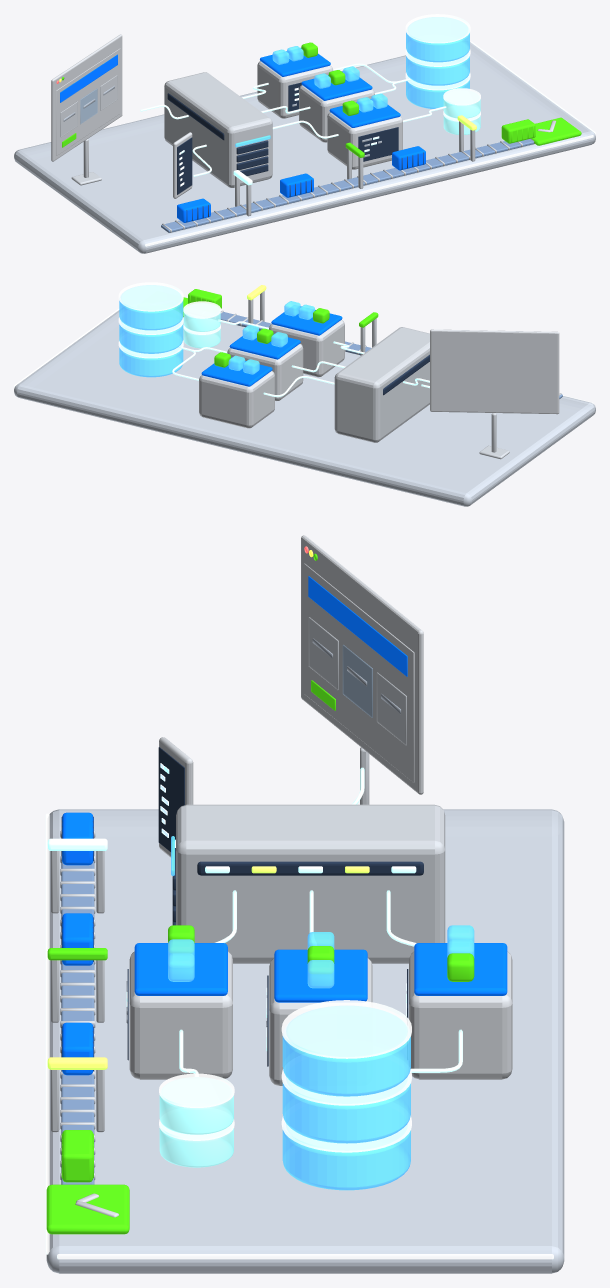
File: software-dev-architecture.glb
3 renders of one model, top to bottom at view 1: azimuth 30°, elevation 25°; view 2: azimuth 150°, elevation 25°; view 3: azimuth 270°, elevation 25°, orthographic. The views are drawn at different scales.
Parts seen in each view (by area): view 1: Base, ApiGateway, BrowserClient, Database, Rail, Service01, Service03, Service02, Cache, DataPaths, PhoneClient, DeployTarget (+4 smaller); view 2: Base, BrowserClient, ApiGateway, Database, Service03, Service01, Service02, Cache, Rail, DataPaths, Container04; view 3: Base, ApiGateway, Database, BrowserClient, Service01, Service03, Rail, Service02, Cache, DeployTarget, PhoneClient, DataPaths (+4 smaller).
Boxes of the visible parts, x1,y1,x2,y2 form: Base: (14,41,595,253); ApiGateway: (164,72,272,187); BrowserClient: (51,34,122,185); Database: (405,14,470,108); Rail: (161,115,534,232); Service01: (327,93,402,169); Service03: (257,42,333,118); Service02: (299,66,374,142); Cache: (443,88,480,134); DataPaths: (140,63,446,176); PhoneClient: (173,132,192,198); DeployTarget: (531,117,581,145); Base: (14,308,595,506); BrowserClient: (430,329,559,459); ApiGateway: (334,327,429,442); Database: (118,282,183,377); Service03: (199,352,274,428); Service01: (269,301,344,377); Service02: (227,325,303,400); Cache: (183,301,220,348); Rail: (220,285,562,398); DataPaths: (172,319,429,397); Container04: (188,289,221,308); Base: (45,809,564,1273); ApiGateway: (171,804,445,963); Database: (281,1000,411,1190); BrowserClient: (301,535,423,804); Service01: (126,925,232,1079); Service03: (406,925,512,1079); Rail: (47,830,107,1184); Service02: (266,932,372,1085); Cache: (159,1073,234,1167); DeployTarget: (46,1184,129,1234); PhoneClient: (158,737,193,857); DataPaths: (175,767,462,1073).
Size of the model in its own units: 10.77 by 2.91 by 5.01.
